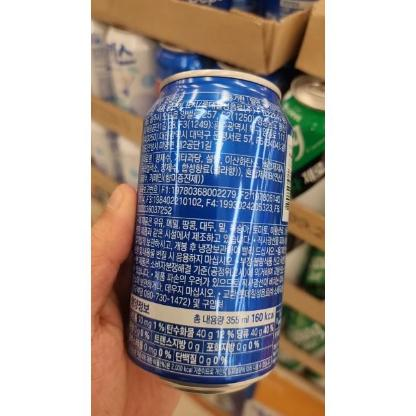Can: (124, 69, 294, 394)
